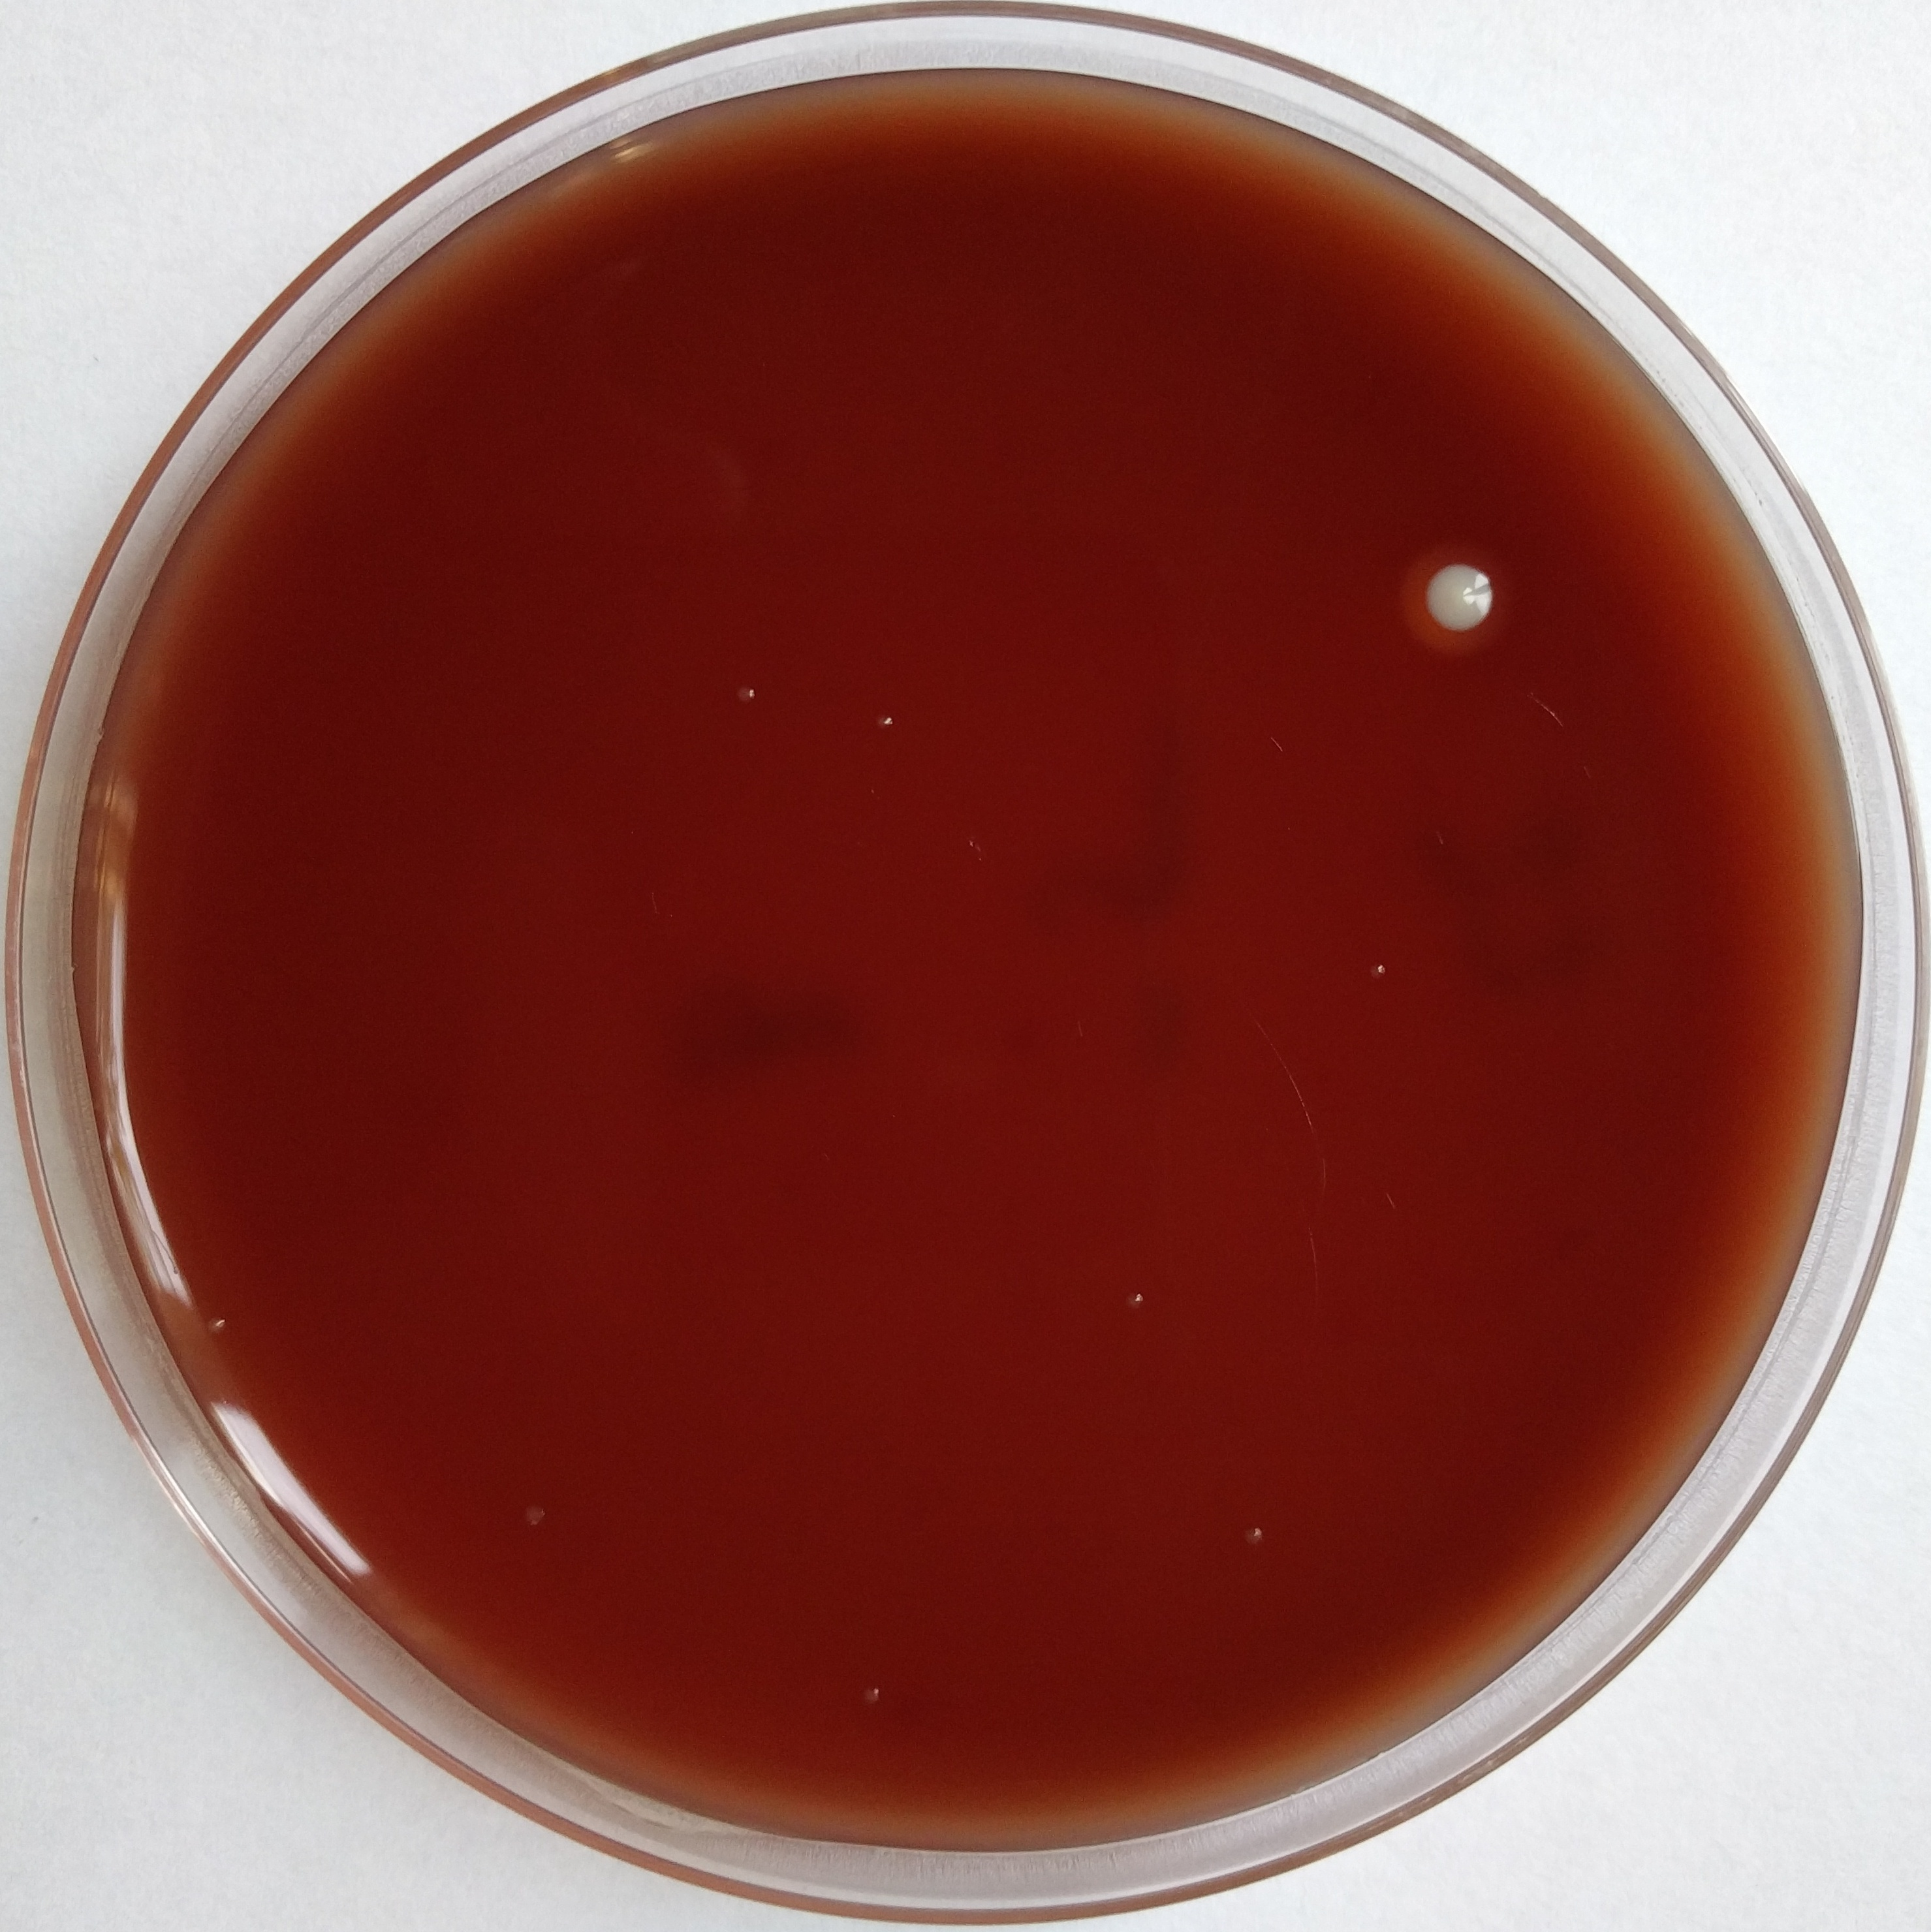sp07: (499, 1481, 561, 1554), (1105, 1266, 1162, 1335), (718, 666, 775, 721), (1367, 937, 1420, 995), (840, 1662, 891, 1709), (1238, 1508, 1275, 1557), (200, 1306, 230, 1349), (875, 704, 907, 735)
